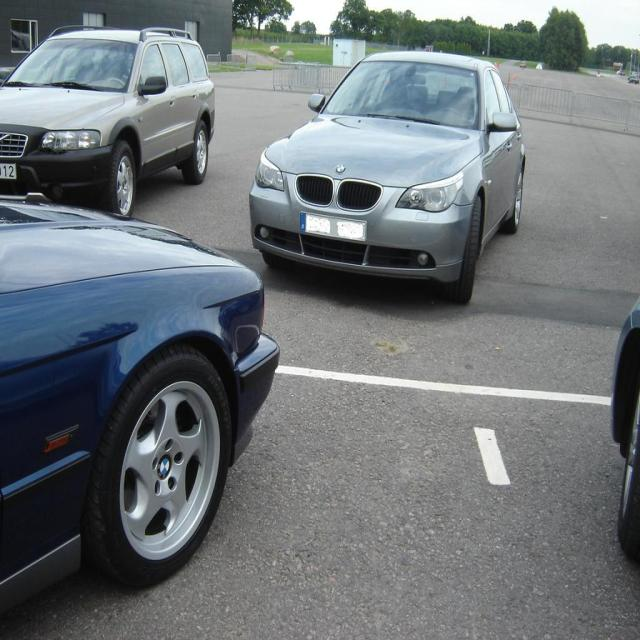car: (238, 52, 520, 294)
